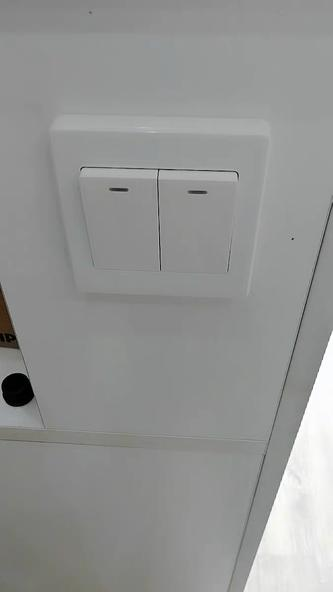switch: (165, 174, 233, 280), (91, 171, 158, 278)
